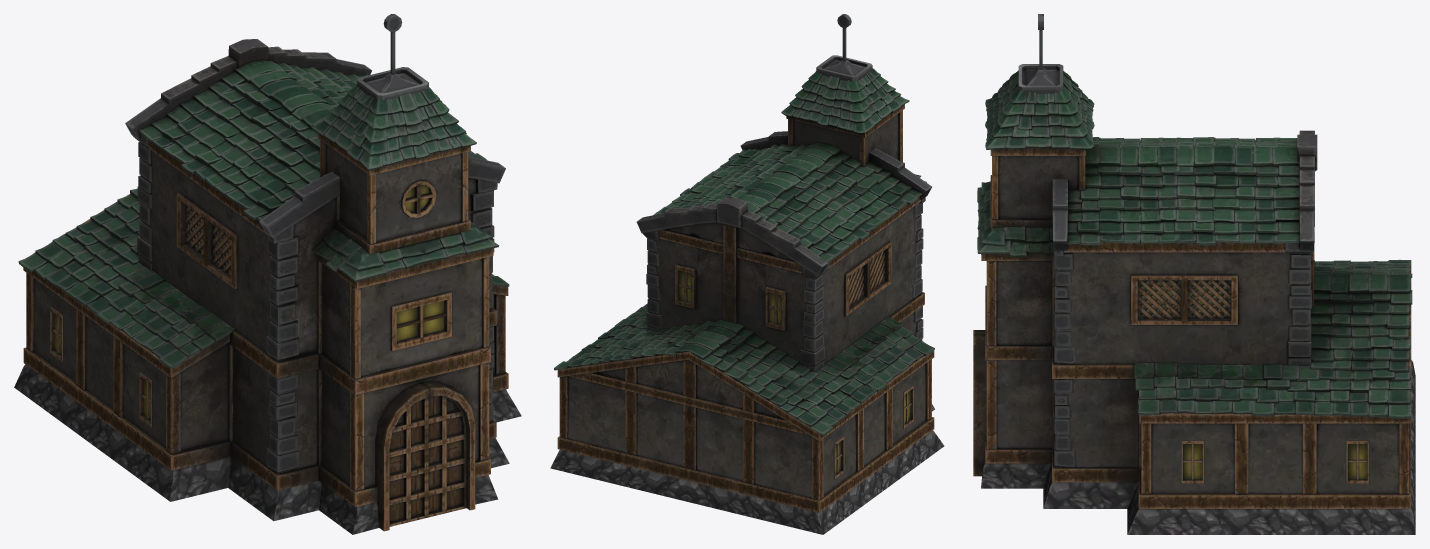
Rendered from town_hall.glb.
The picture shows the model from 3 angles, left to right: view 1: azimuth 30°, elevation 25°; view 2: azimuth 150°, elevation 25°; view 3: azimuth 270°, elevation 25°; orthographic projection. The views are drawn at different scales.
Visible parts, largest first — view 1: Object_2; view 2: Object_2; view 3: Object_2.
Boxes of the visible parts, bbox=[...] form: Object_2: bbox=[14, 14, 521, 534]; Object_2: bbox=[550, 14, 944, 534]; Object_2: bbox=[973, 14, 1415, 534].
Size of the model in its own units: 7.69 by 10.01 by 9.1.
1 material, 1 textured.
